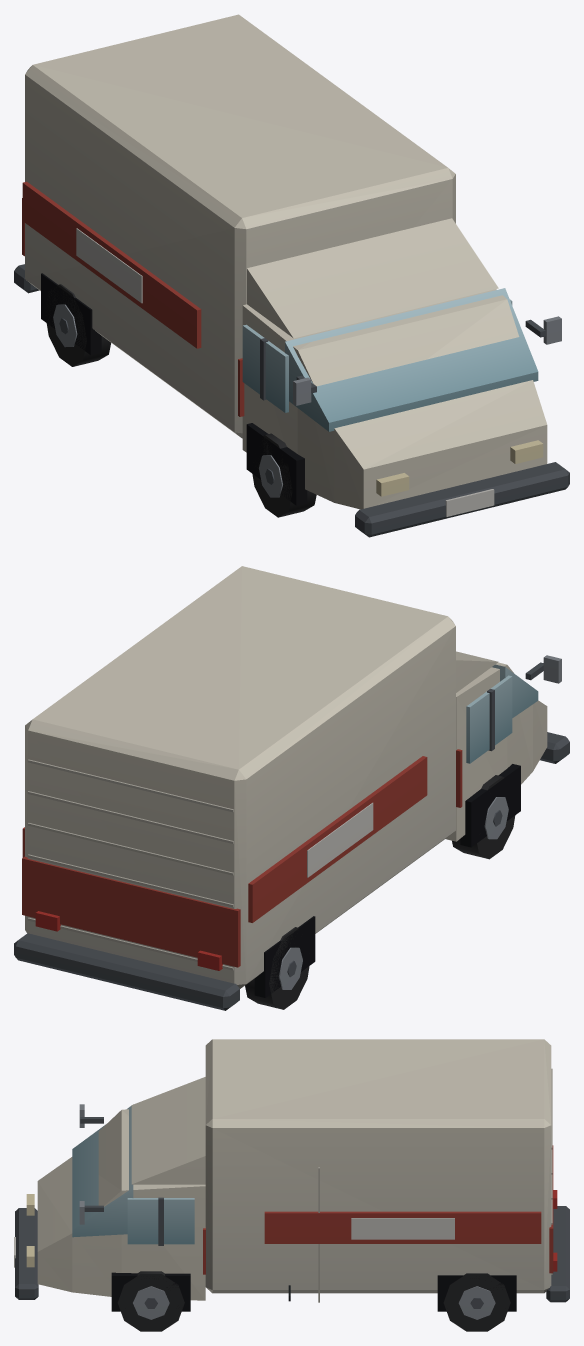
Rendered from delivery-van-01.glb.
3 renders of one model, top to bottom at view 1: azimuth 30°, elevation 25°; view 2: azimuth 150°, elevation 25°; view 3: azimuth 270°, elevation 25°, orthographic. The views are drawn at different scales.
Parts seen in each view (by area): view 1: delivery_van_01; view 2: delivery_van_01; view 3: delivery_van_01.
Boxes of the visible parts, <box> form: delivery_van_01: <box>14,14,569,537</box>; delivery_van_01: <box>14,566,569,1010</box>; delivery_van_01: <box>14,1039,569,1331</box>.
Size of the model in its own units: 1.63 by 1.52 by 3.66.
